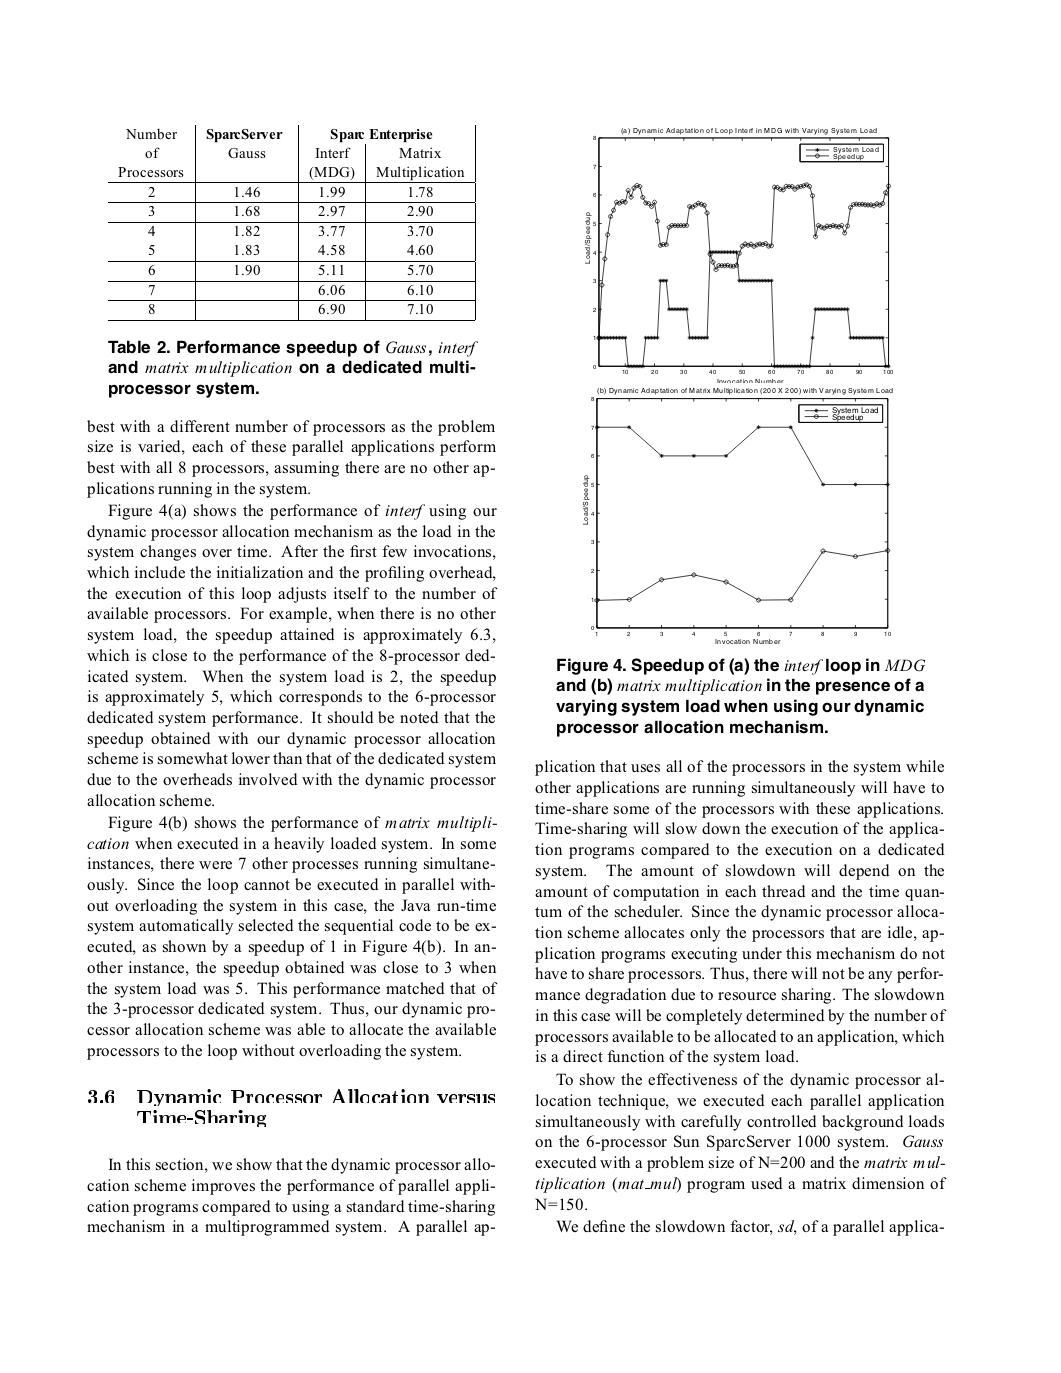Table: (108, 124, 475, 321)
figure: (582, 386, 892, 644), (584, 126, 892, 374)
